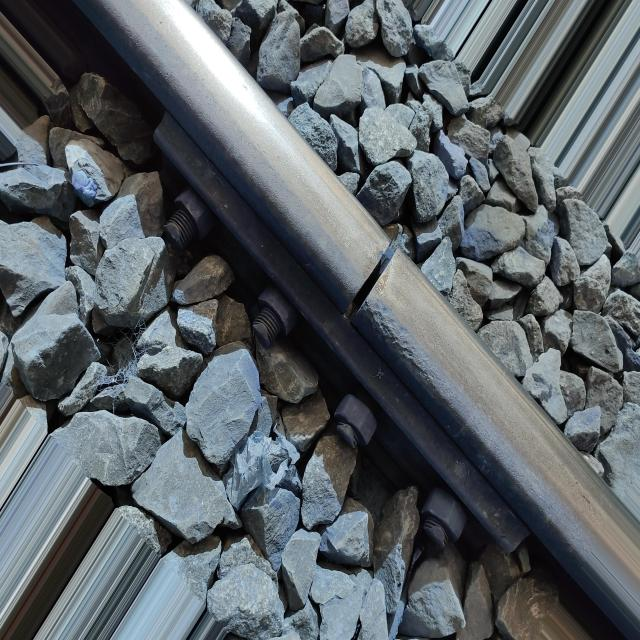crack: (321, 212, 418, 335)
